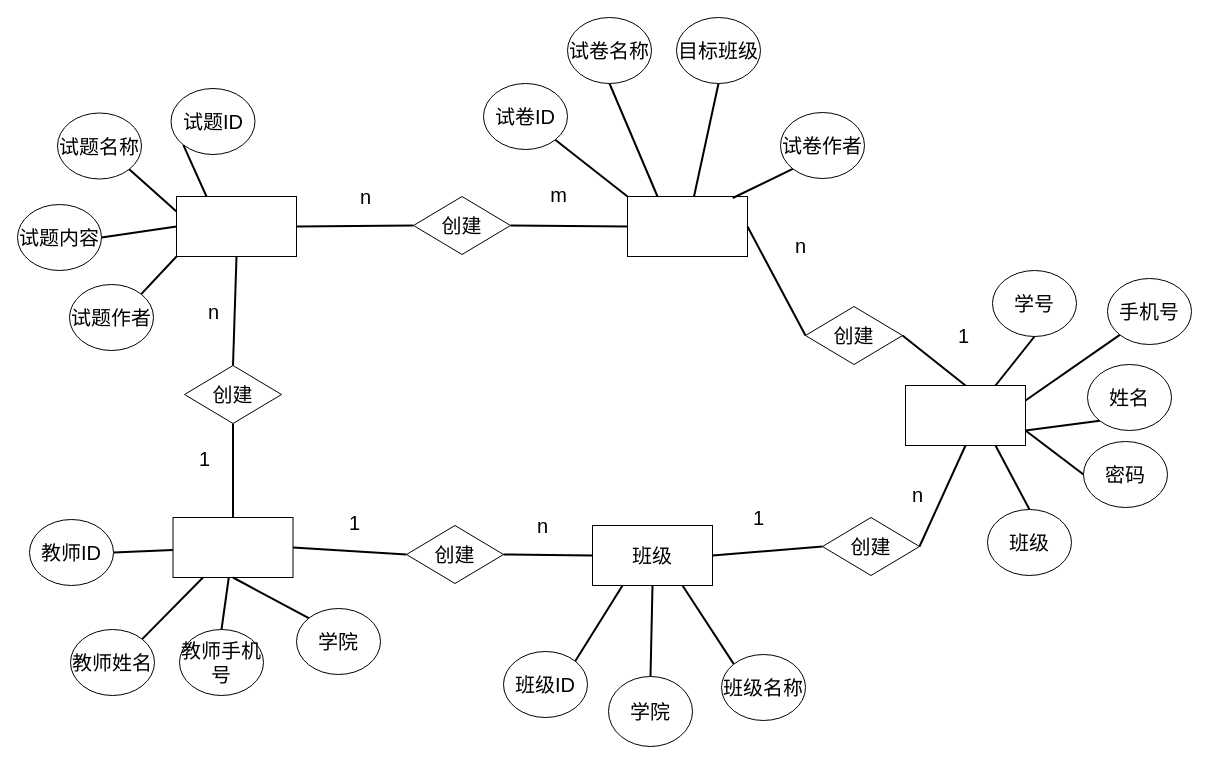
The diagram is 1209 pixels wide and 764 high, and some of its shapes have lost their labels. Each missing label, with the centre of its shape:
"学生" goes at (965,415).
"教师" goes at (232,547).
"试卷" goes at (687,226).
"试题" goes at (236,226).
